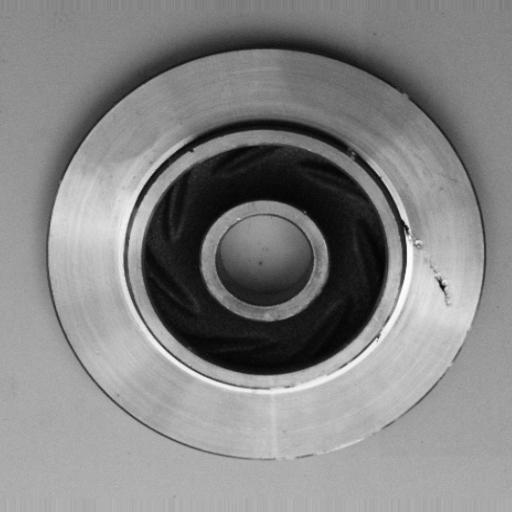crack: (395, 208, 464, 314)
scratch: (280, 421, 397, 471), (253, 356, 365, 406)
unpolished_casting: (45, 45, 485, 467)
